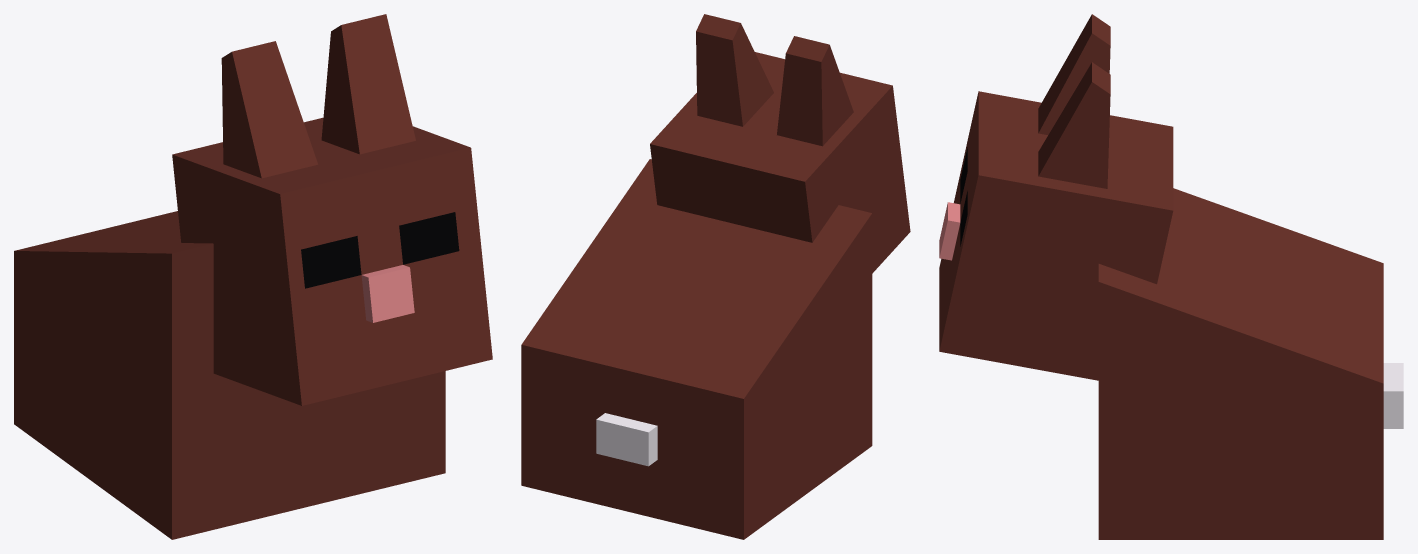
Rendered from rabbit.glb.
3 views of the same model, side by side, from view 1: azimuth 30°, elevation 25°; view 2: azimuth 150°, elevation 25°; view 3: azimuth 270°, elevation 25° (orthographic). The views are drawn at different scales.
Visible parts, largest first — view 1: rabbit; view 2: rabbit; view 3: rabbit.
Boxes of the visible parts, x1,y1,x2,y2 form: rabbit: [14, 14, 492, 539]; rabbit: [521, 14, 910, 539]; rabbit: [939, 14, 1403, 539].
Size of the model in its own units: 2 by 3.33 by 3.26.
